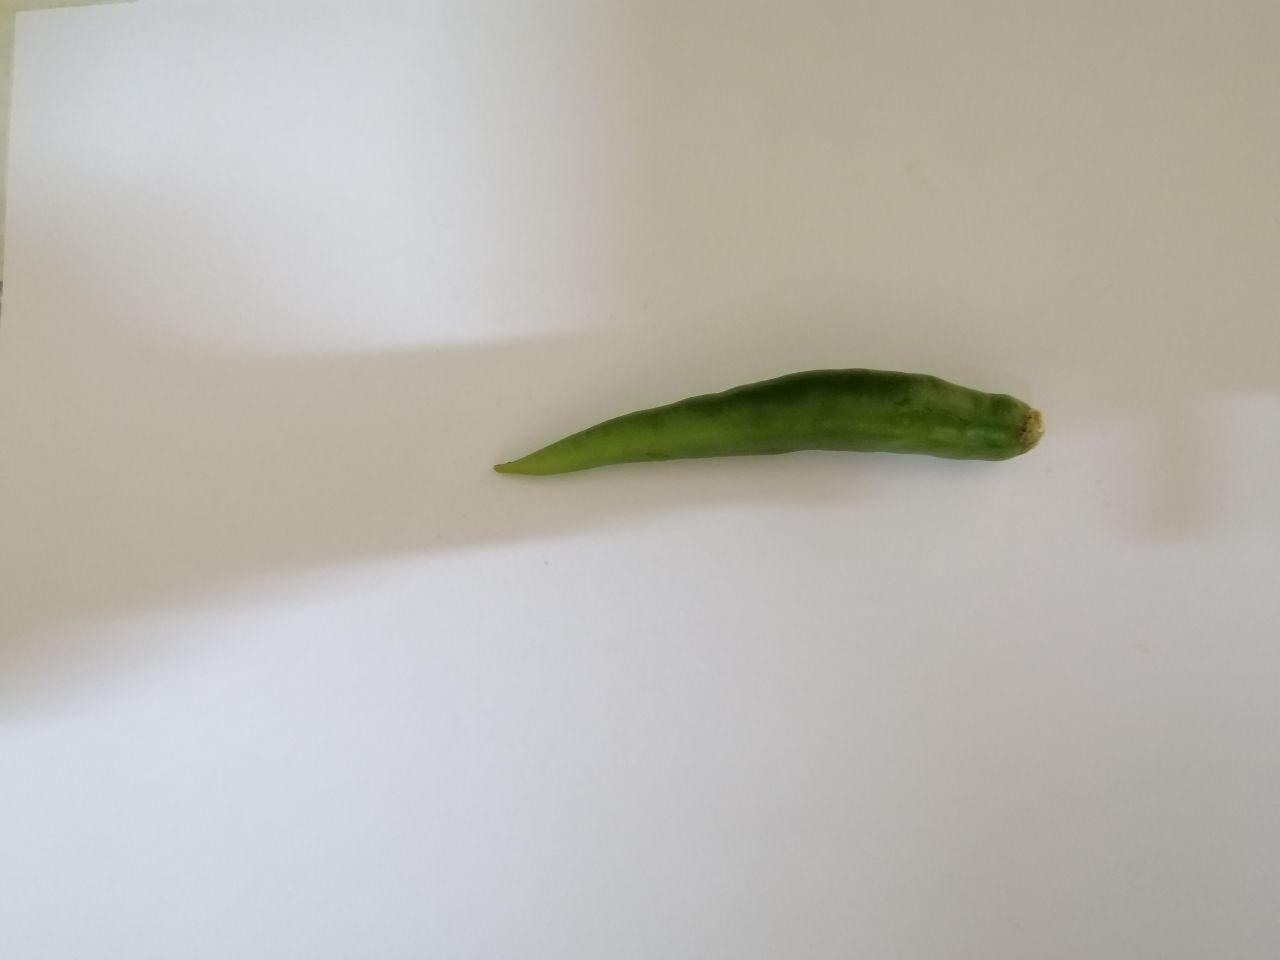lada hijau: (472, 344, 1072, 533)
